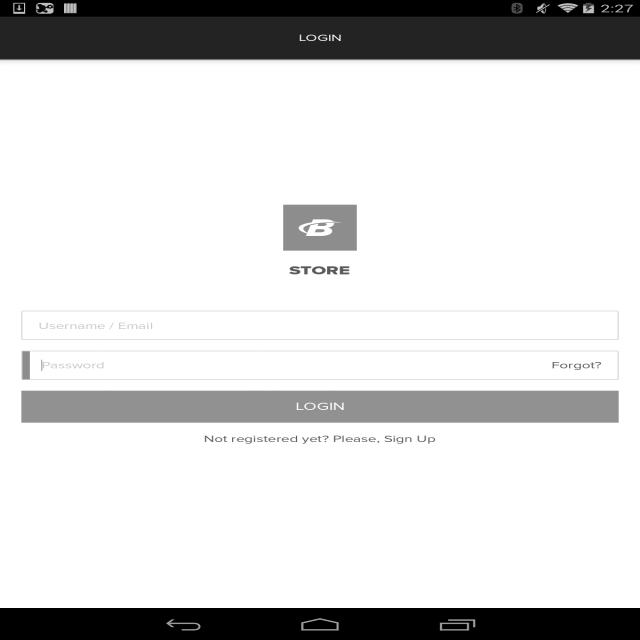Button: (15, 386, 626, 426)
EditText: (11, 303, 626, 342), (15, 347, 624, 382)
ImageView: (273, 199, 369, 255)
TextView: (197, 431, 438, 447), (281, 262, 350, 276), (294, 28, 345, 46)
